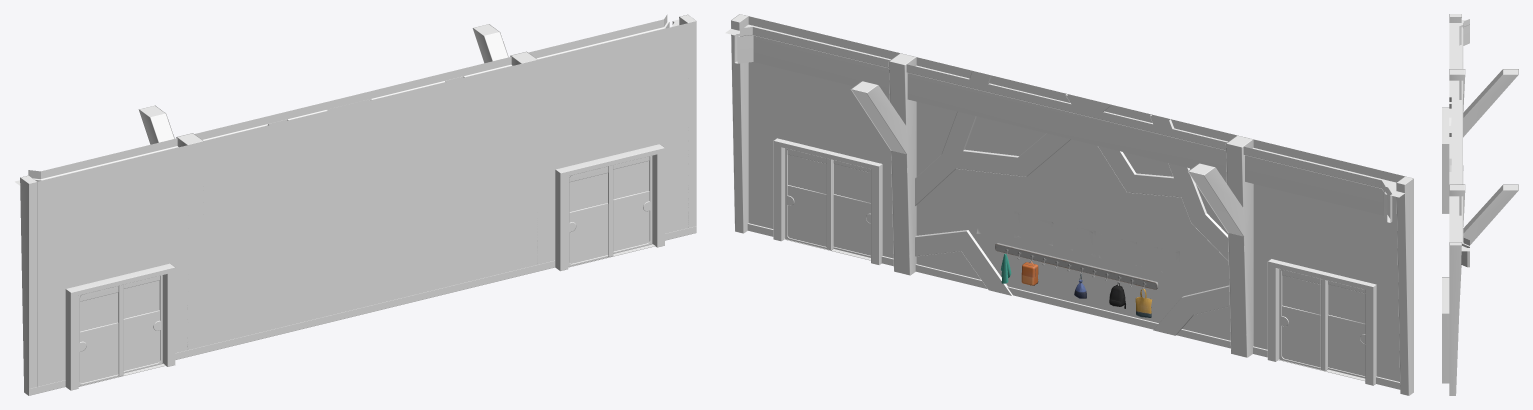
File: a_sch_2_class1_hallwaywall01.gltf
The picture shows the model from 3 angles, left to right: view 1: azimuth 30°, elevation 25°; view 2: azimuth 150°, elevation 25°; view 3: azimuth 270°, elevation 25°; orthographic projection. The views are drawn at different scales.
Visible parts, largest first — view 1: um_a_sch_2_class1_hallwaywall01_model_a_sch_2_class1_hallway (×6); view 2: um_a_sch_2_class1_hallwaywall01_model_a_sch_2_class1_hallway (×11); view 3: um_a_sch_2_class1_hallwaywall01_model_a_sch_2_class1_hallway (×5).
Part boxes in pixels (<box>): um_a_sch_2_class1_hallwaywall01_model_a_sch_2_class1_hallway (×6): <box>20,14,696,395</box>; um_a_sch_2_class1_hallwaywall01_model_a_sch_2_class1_hallway (×11): <box>725,14,1413,395</box>; um_a_sch_2_class1_hallwaywall01_model_a_sch_2_class1_hallway (×5): <box>1442,14,1518,395</box>.
Bounding box in the file's own units: 15 × 4.55 × 2.1.
11 materials, 1 textured.
